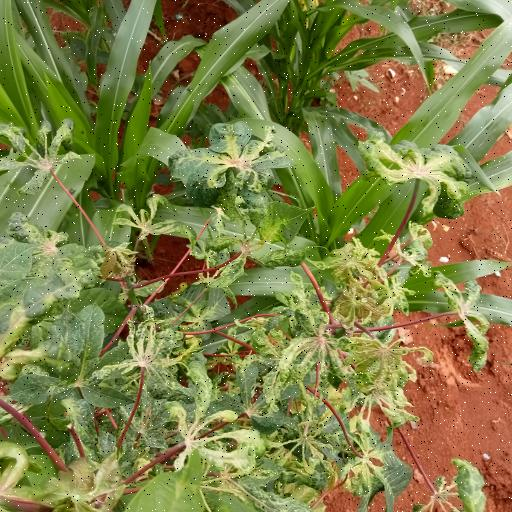Cassava_Mosaic: (358, 132, 469, 218), (174, 121, 294, 198), (2, 215, 91, 316), (101, 306, 196, 400), (170, 403, 260, 476), (436, 272, 496, 376), (3, 122, 80, 194)
